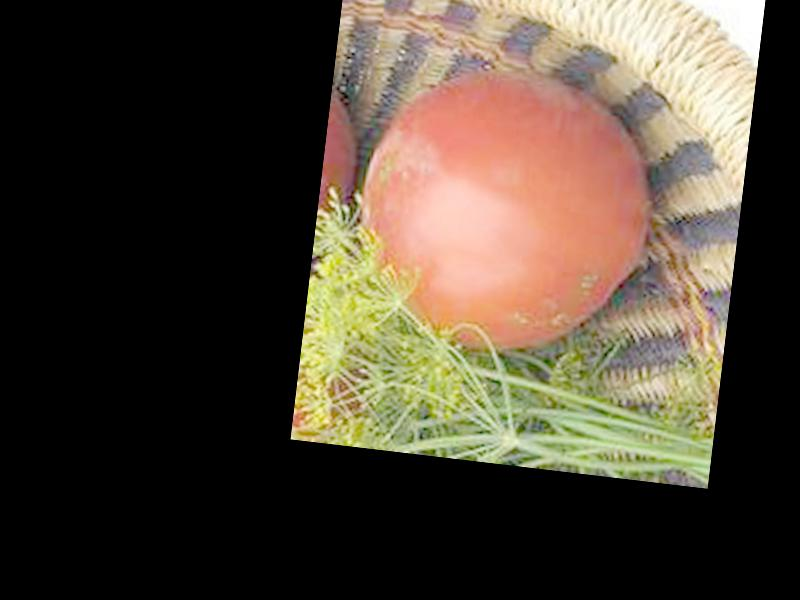Tomato: (345, 55, 660, 368)
